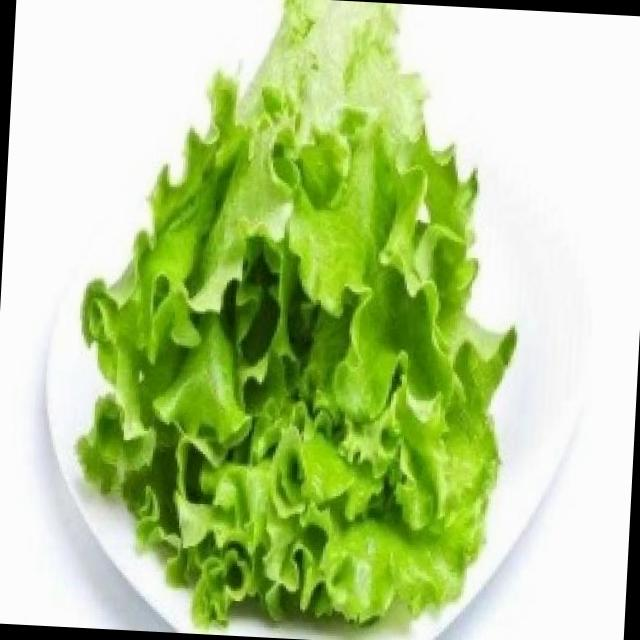Lettuce-Ready-to-Harvest: (78, 0, 516, 626)
